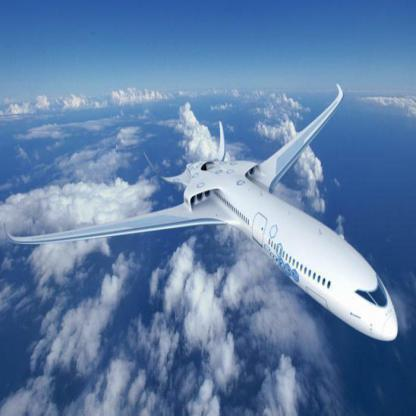CIV_Plane: (3, 79, 402, 348)
